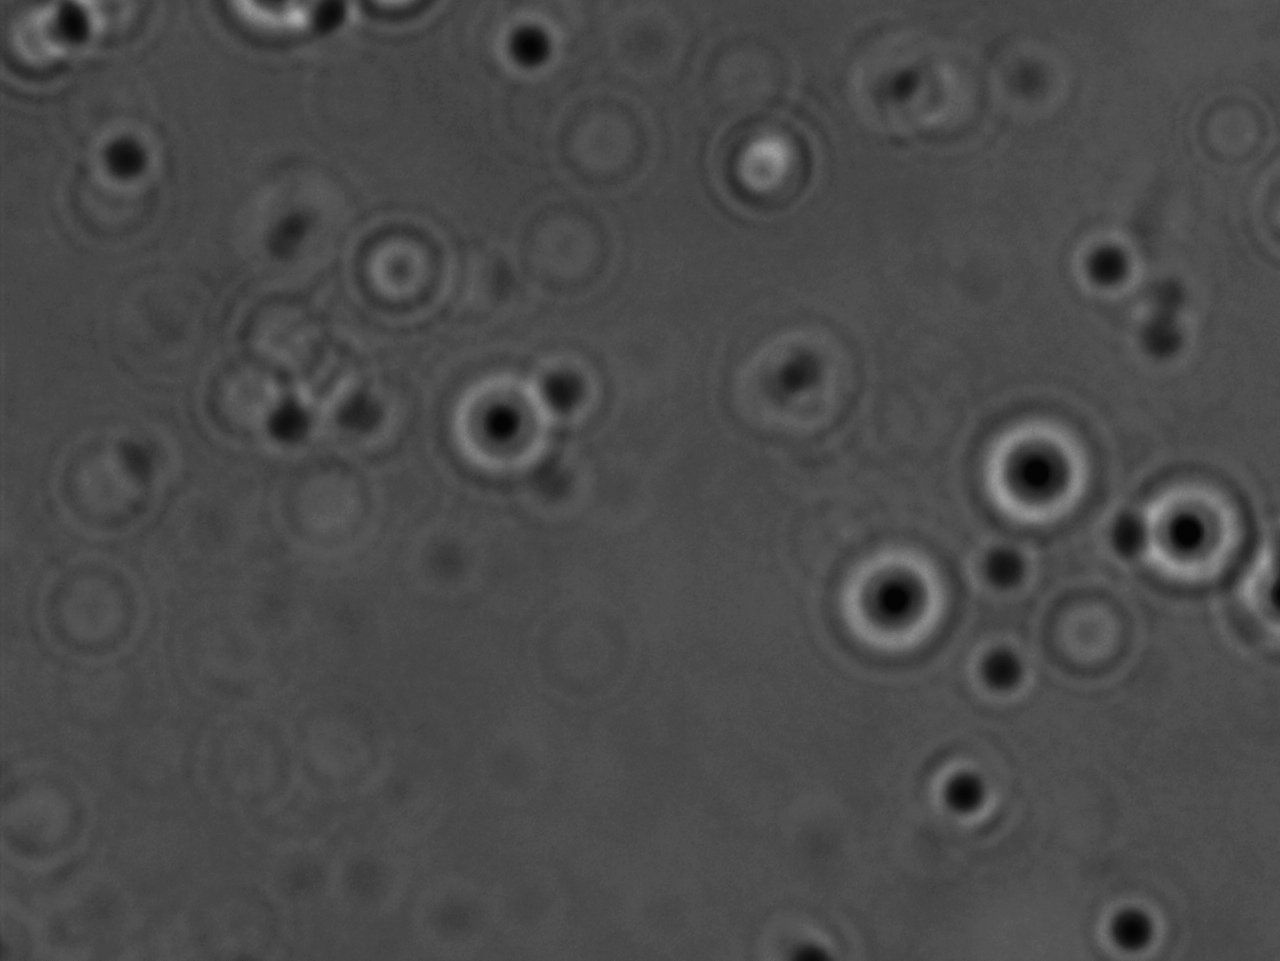depth:-24: (961, 392, 1110, 559), (820, 535, 967, 671), (435, 352, 572, 497), (1130, 466, 1261, 612)
